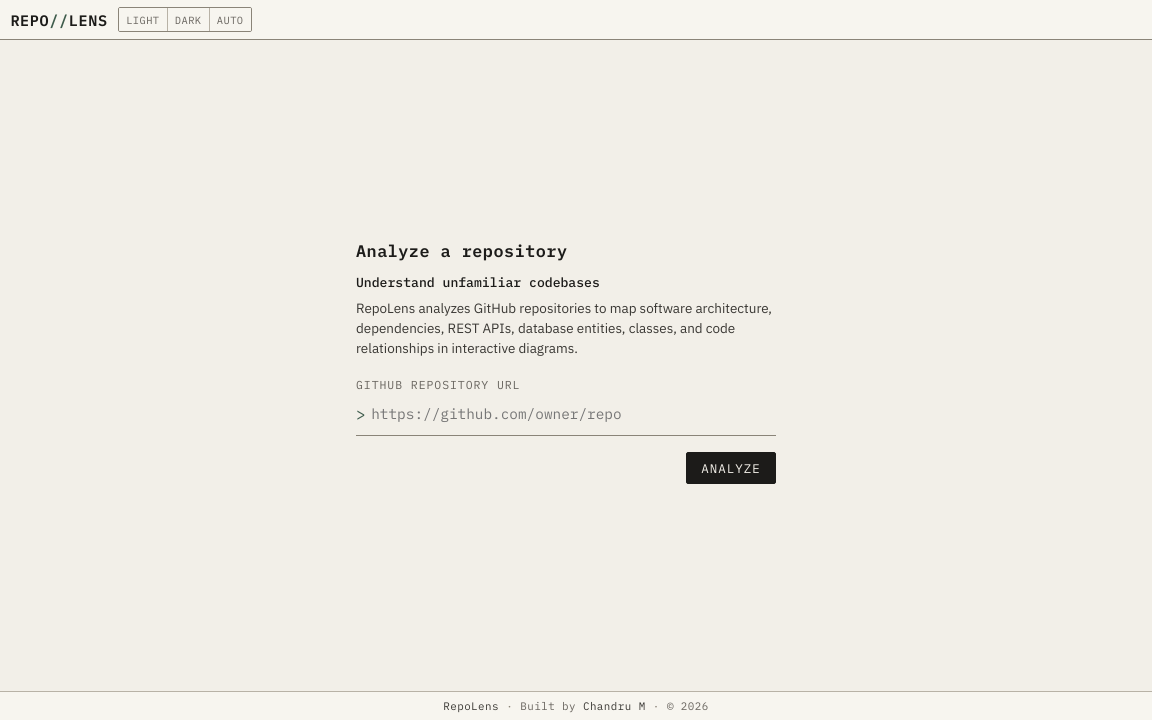
landing analysis › rejects an invalid URL
Step 1. Type "https://gitlab.com/acme/demo" into the field labelled "GitHub repository URL" → (574, 414), box [371, 399, 776, 429]
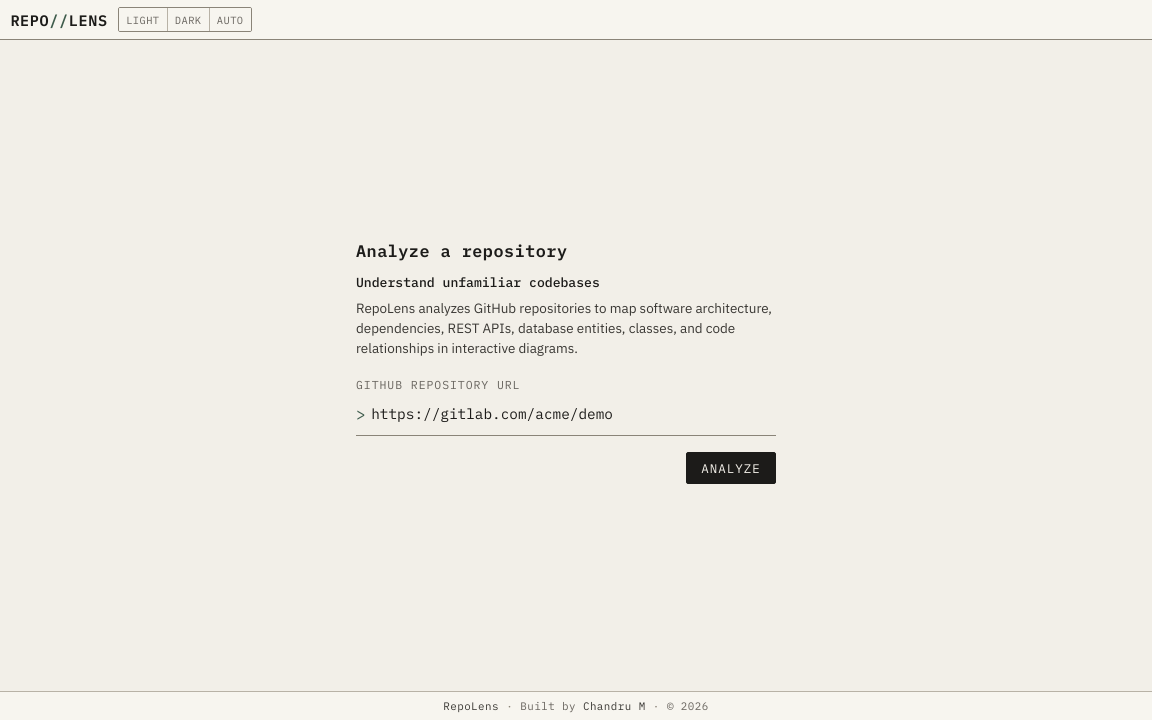
Step 2. Click the button "Analyze" → (731, 468), box [686, 452, 776, 484]
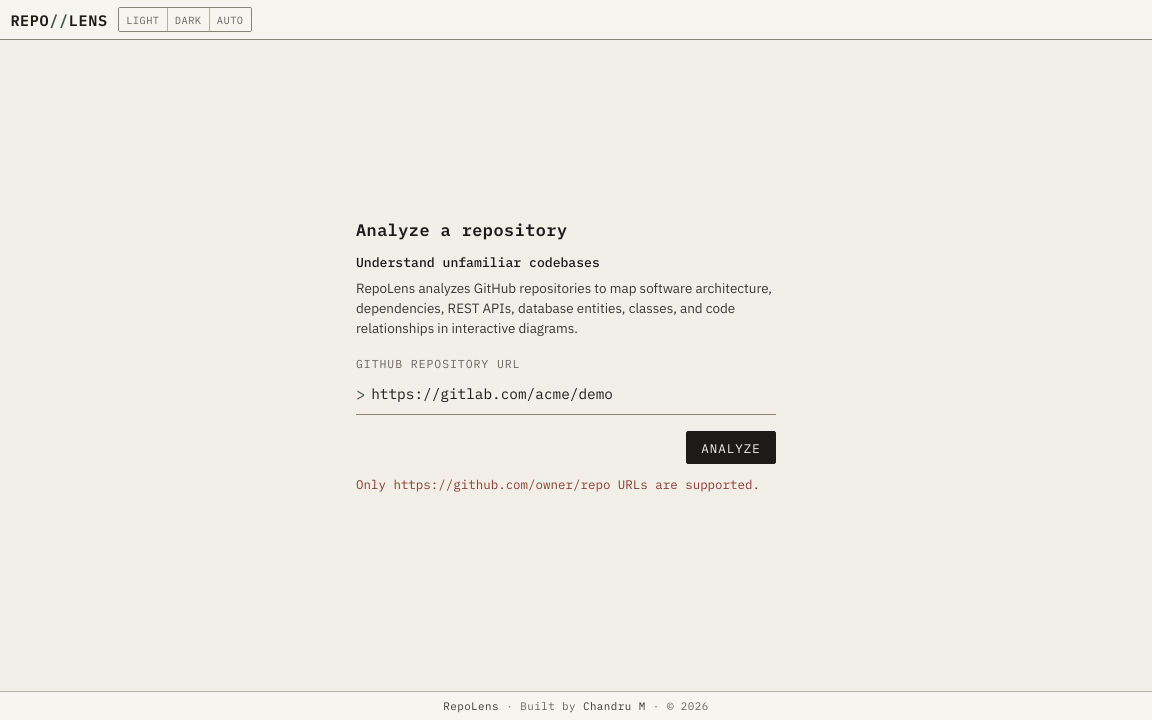
Now the text "Only https://github.com/owner/repo URLs are supported." is shown, box [356, 476, 776, 492]
